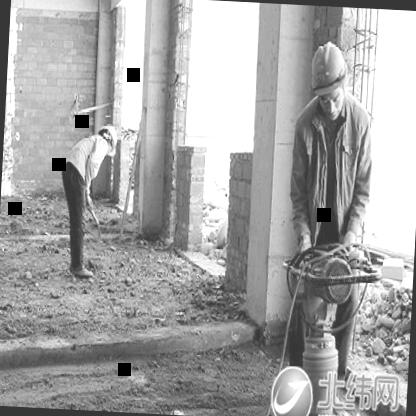helmet: (305, 39, 351, 119), (95, 120, 122, 160)
